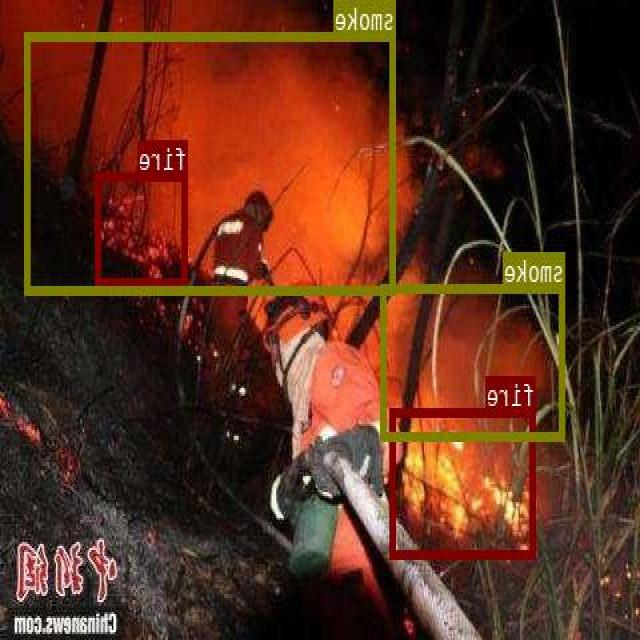fire: (391, 408, 537, 556), (97, 172, 189, 285)
smoke: (26, 32, 397, 294), (382, 284, 566, 438)
